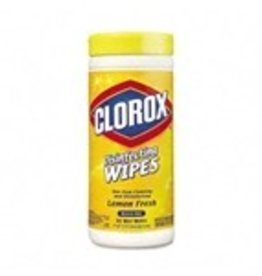Wipes: (83, 29, 181, 251)
